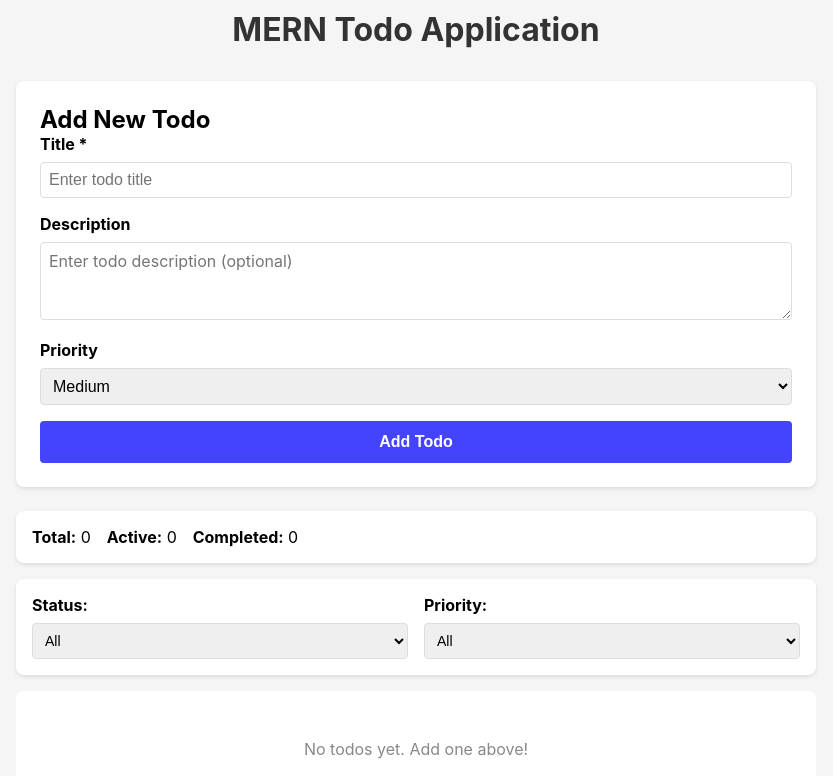
Scenario: Todo App Integration Tests › displays error when adding todo fails
Type "New Todo" into the field with test id "title-input" at (416, 180), box [40, 162, 792, 198]
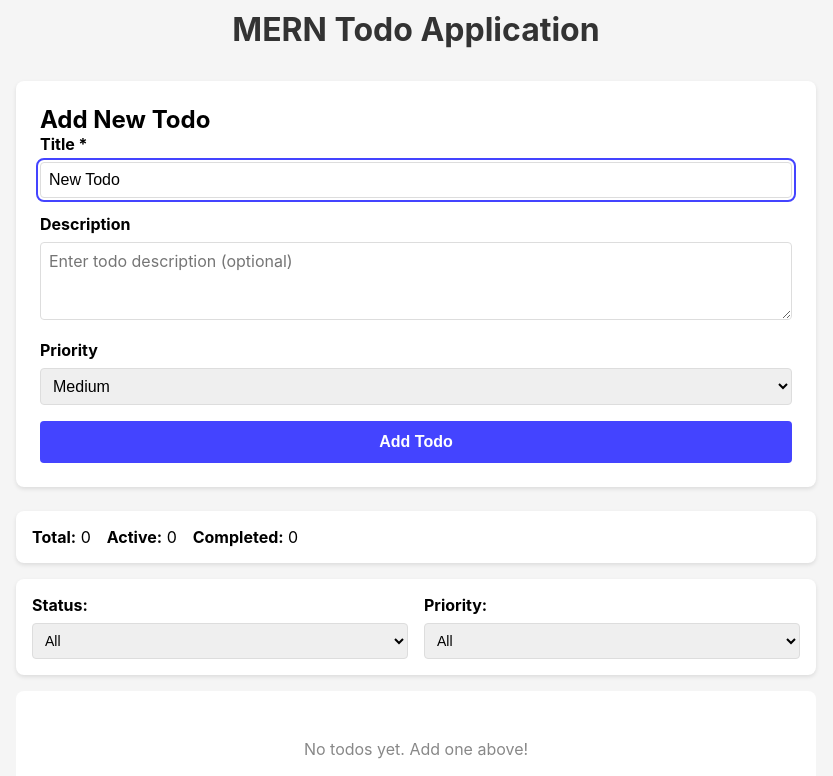
Click the button with test id "submit-button" at (416, 442), box [40, 421, 792, 463]
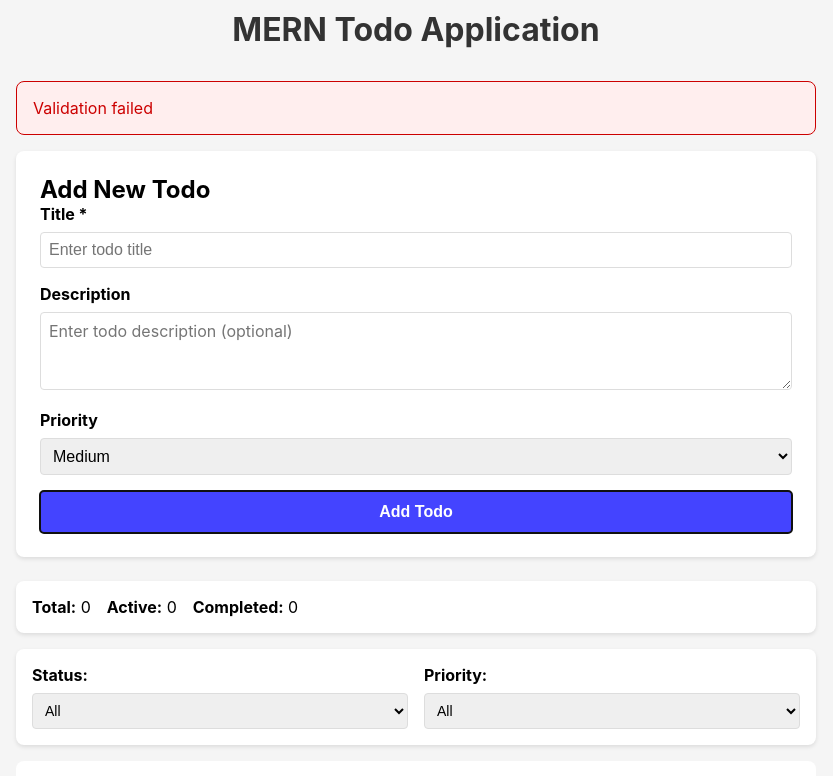
Now the message with test id "error-message" reads "Validation failed", box [33, 98, 153, 118]
